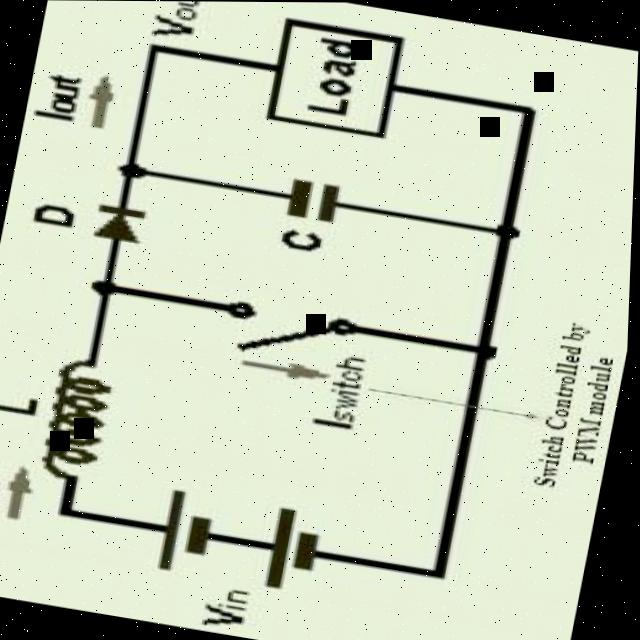capacitor: (260, 164, 366, 235)
diode: (80, 194, 163, 258)
inductor: (27, 346, 145, 494)
node: (104, 149, 167, 191), (80, 272, 142, 308), (479, 212, 528, 250), (467, 332, 511, 369)
resistor: (242, 8, 427, 146)
source: (131, 477, 361, 602)
switch: (180, 281, 391, 378)
